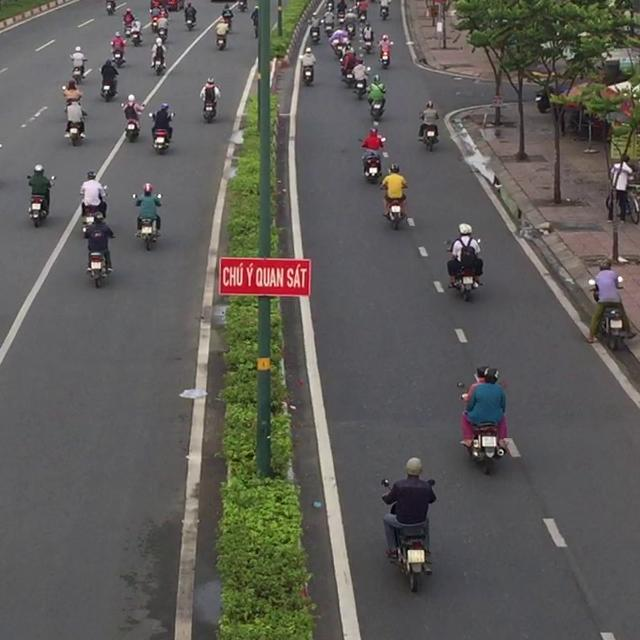Motorcycle: (380, 478, 434, 593), (456, 381, 508, 475), (587, 276, 636, 350), (444, 239, 484, 301), (132, 192, 162, 251), (83, 223, 109, 288), (26, 174, 56, 227), (357, 136, 387, 184), (378, 183, 408, 230), (148, 111, 174, 154), (120, 103, 144, 142), (417, 112, 439, 152)
